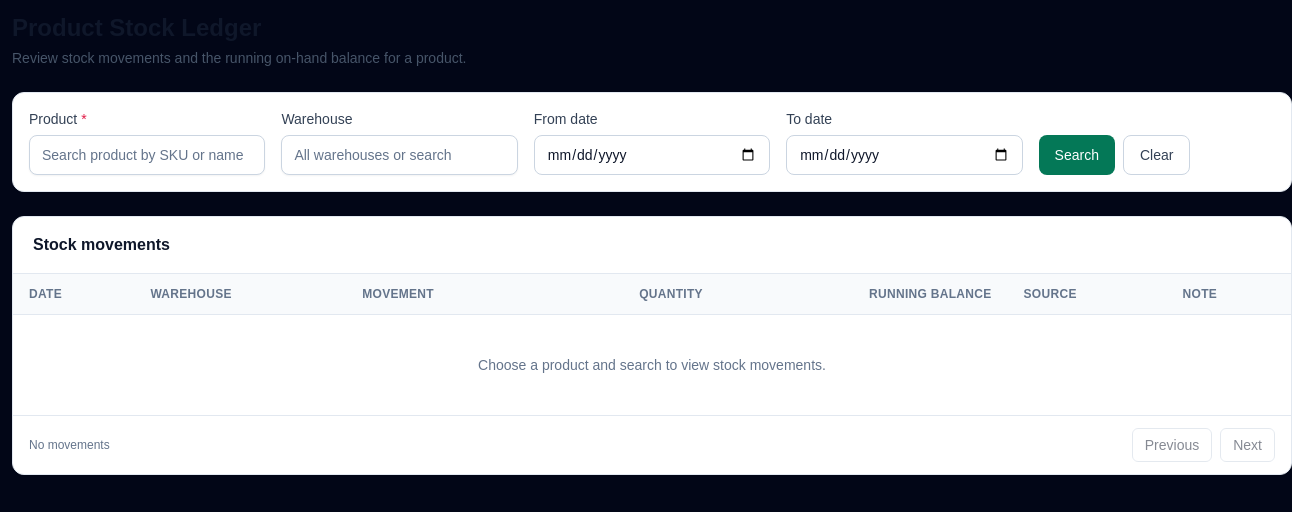
Test: StockLedgerPage › filters movements and shows running balance and linked source document
This screenshot has width=1292, height=512.
Focus the dropdown labelled "Product" at point(147, 155), box [29,135,265,175]
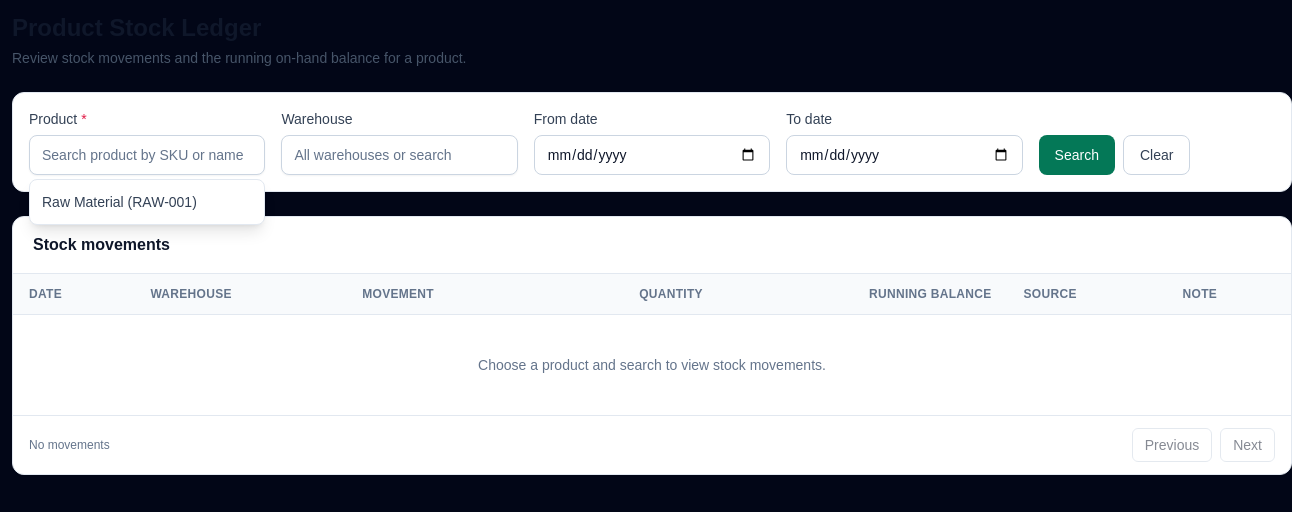
Expected: the option "Raw Material (RAW-001)" is shown, [42,194,197,210]
Type "1" into the dropdown labelled "Product" at point(147, 155), box [29,135,265,175]
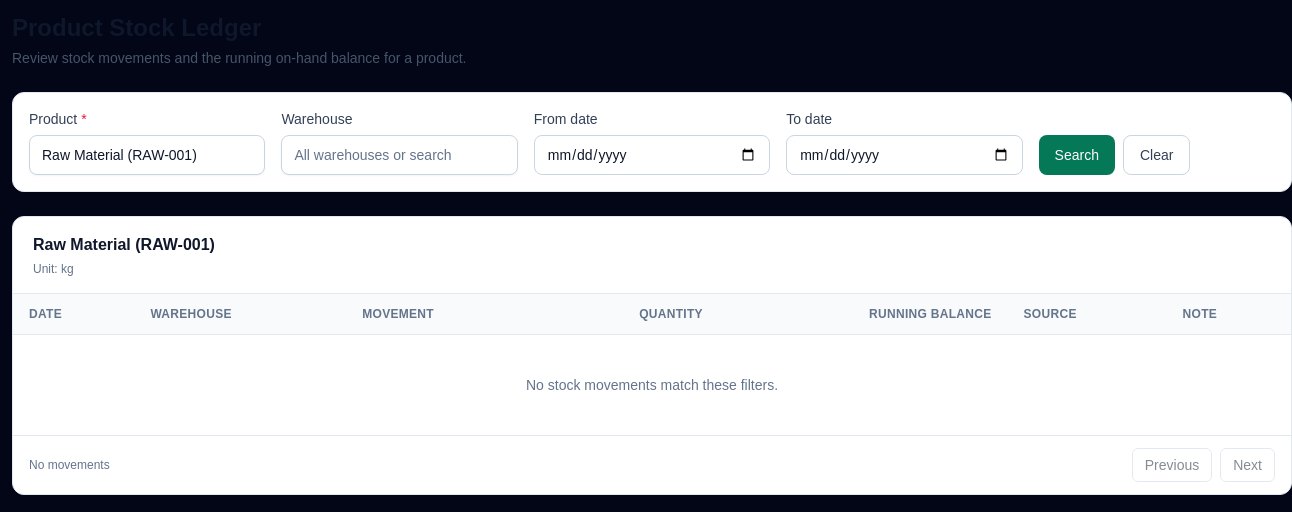
Type "2" into the dropdown labelled "Warehouse" at point(400, 155), box [281,135,518,175]
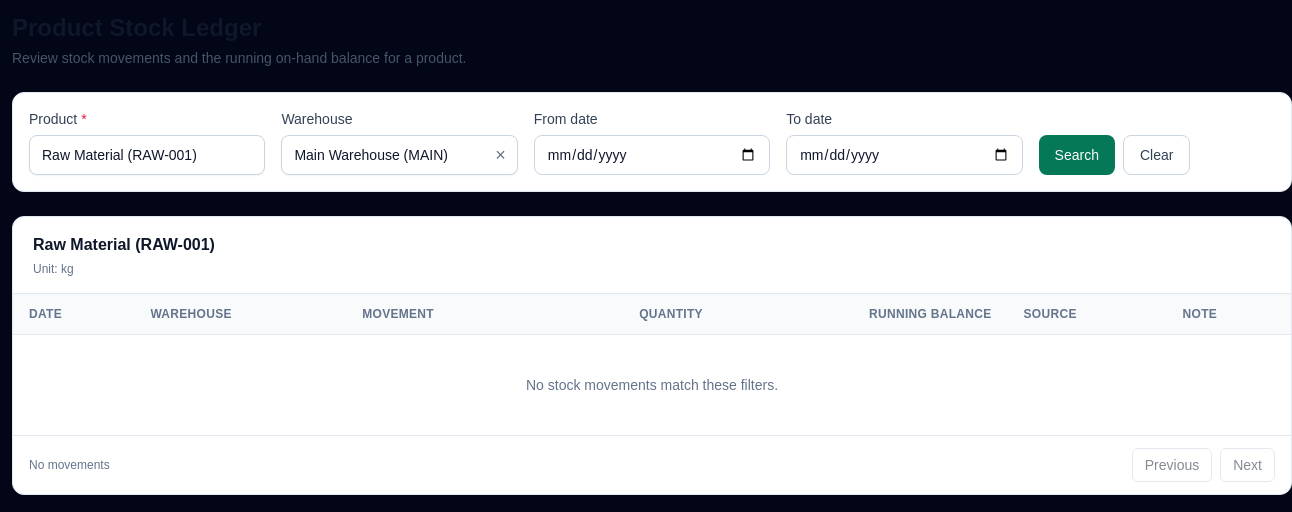
Type "2026-10-13" into the date field labelled "From date" at point(652, 155), box [534,135,770,175]
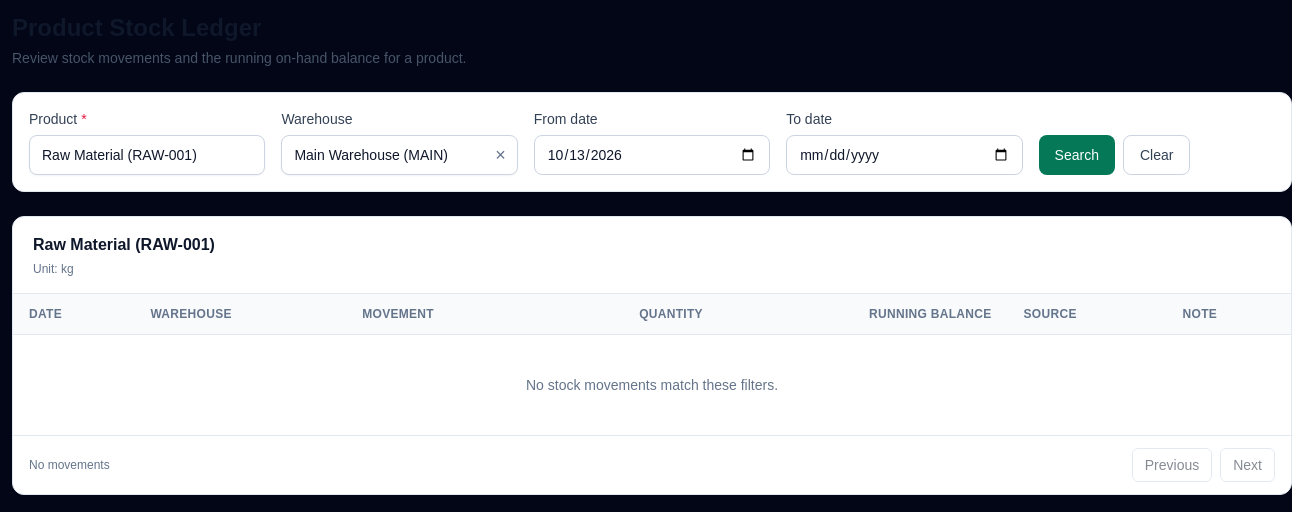
Type "2026-10-14" into the date field labelled "To date" at point(904, 155), box [786,135,1023,175]
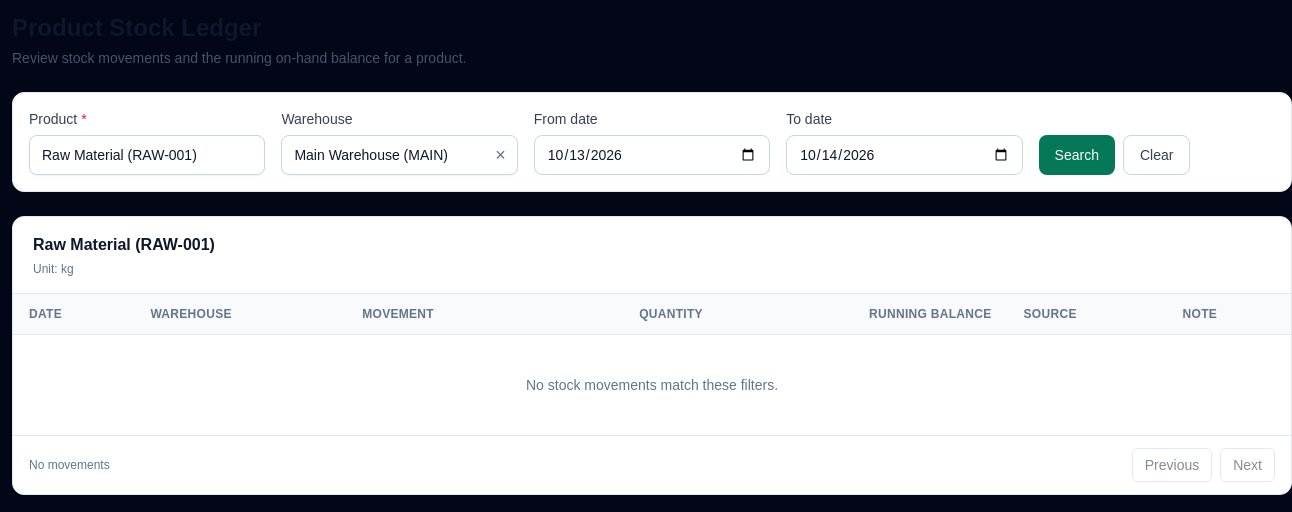
Click the button "Search" at point(1077, 155), box [1039,135,1115,175]
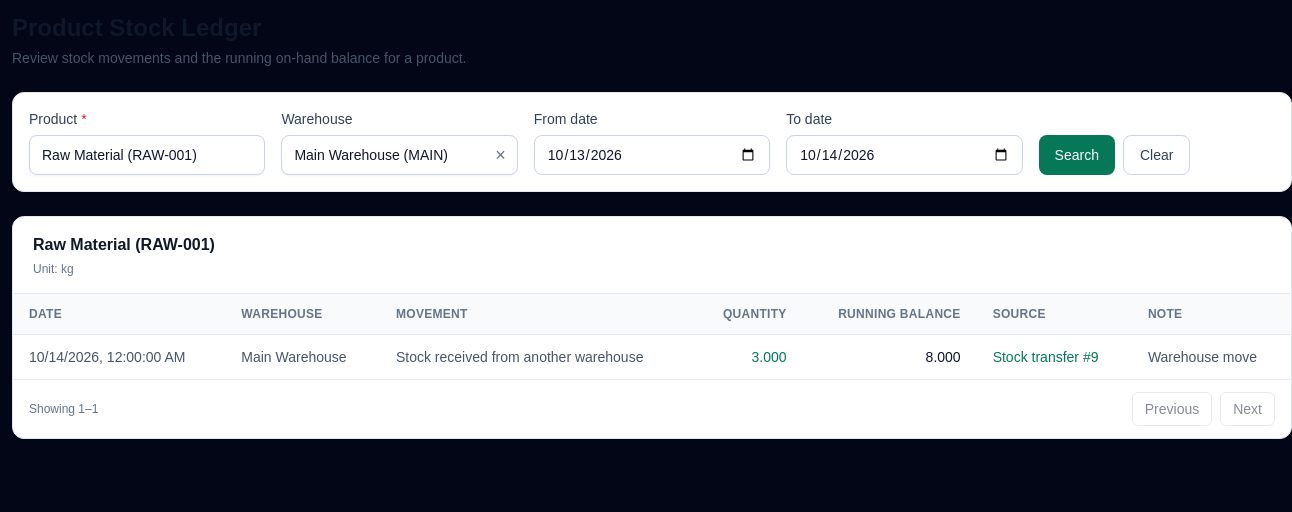
Expected: the text "Stock received from another warehouse" is shown, [380,334,695,379]
Expected: the text "8.000" is shown, [803,334,977,379]
Expected: the text "Warehouse move" is shown, [1132,334,1291,379]
